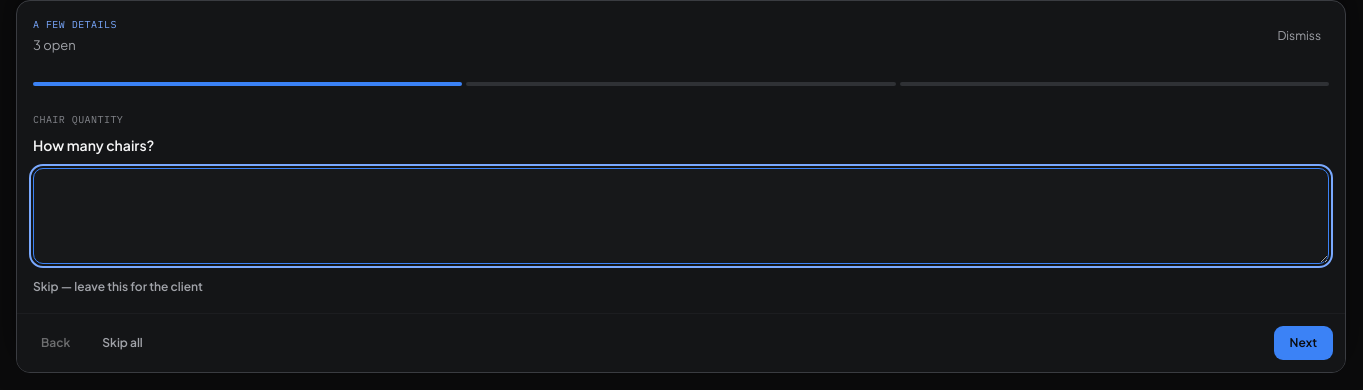
Test: ClarificationPanel › focuses the first open question and supports bounded batch navigation
Expected: the button "Back" is disabled, [29,326,82,360]
Click the button "Next": (1303, 343) [1274,326,1333,360]
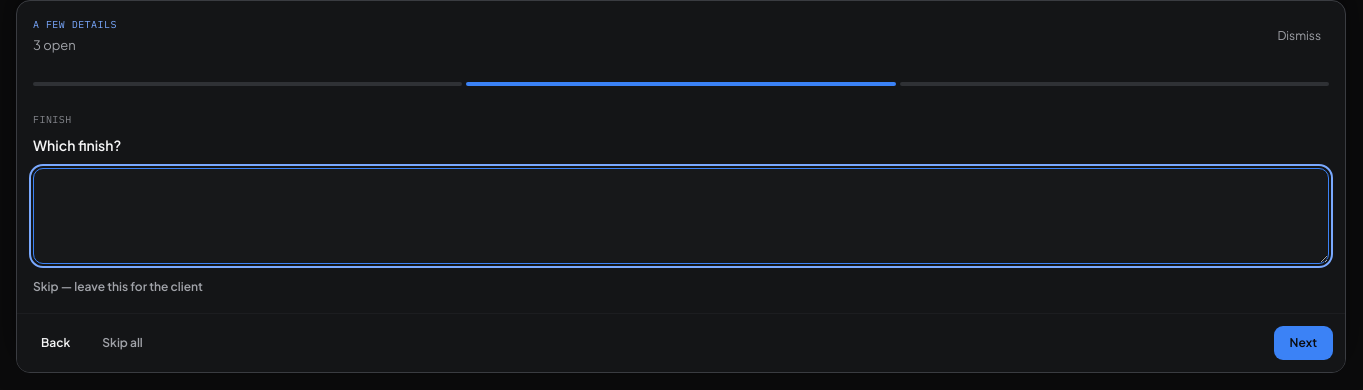
Expected: the button "Back" is enabled, [29,326,82,360]
